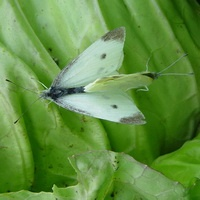insect: (40, 27, 192, 124)
